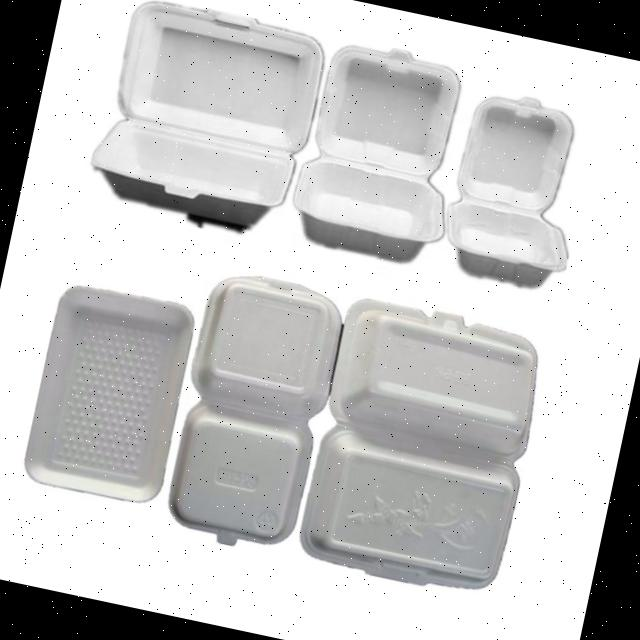styrofoam: (81, 0, 330, 241), (284, 32, 479, 269), (18, 276, 200, 508), (434, 82, 600, 292)
